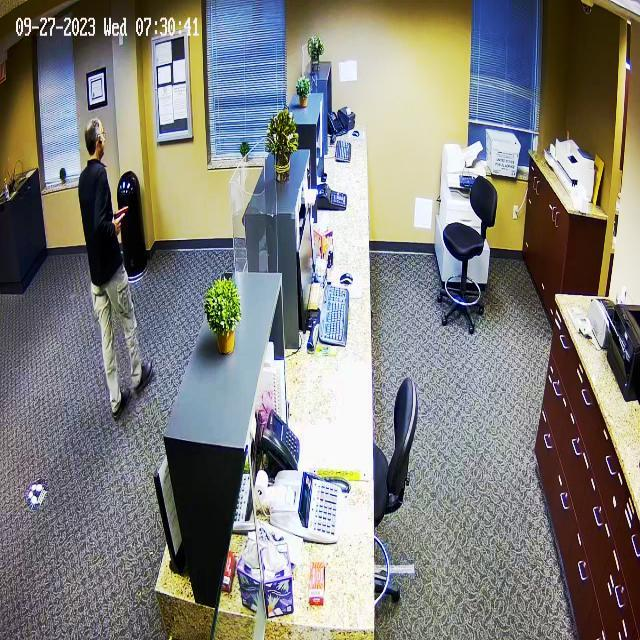Gun: (112, 206, 148, 231)
